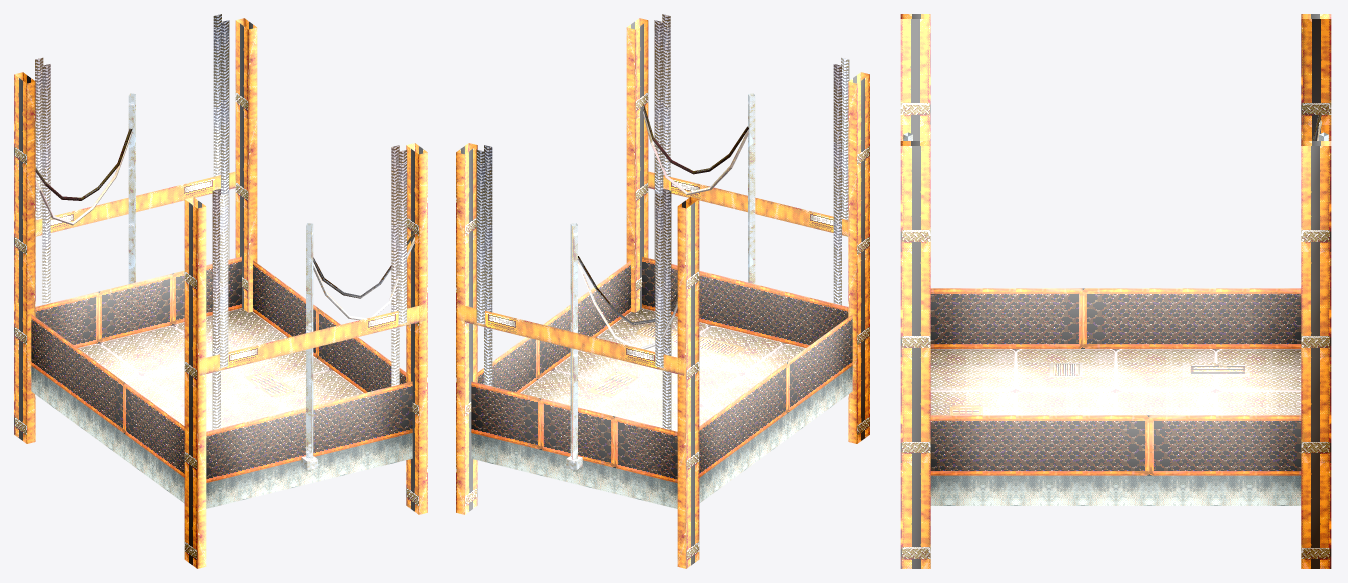
File: Phase1_env.glb
3 renders of one model, left to right at view 1: azimuth 30°, elevation 25°; view 2: azimuth 150°, elevation 25°; view 3: azimuth 270°, elevation 25°, orthographic. The views are drawn at different scales.
Visible parts, largest first — view 1: Phase_1, Cube.001, Cube; view 2: Phase_1, Cube, Cube.001; view 3: Phase_1, Cube, Cube.001.
Part boxes in pixels (x1,y1,x2,y2): Phase_1: (31,256,412,508); Cube.001: (184,143,427,568); Cube: (14,14,257,443); Phase_1: (471,256,852,508); Cube: (456,143,699,568); Cube.001: (626,14,869,443); Phase_1: (930,288,1301,505); Cube: (1301,14,1331,568); Cube.001: (900,14,930,568).
Size of the model in its own units: 9.36 by 14.33 by 13.04.
